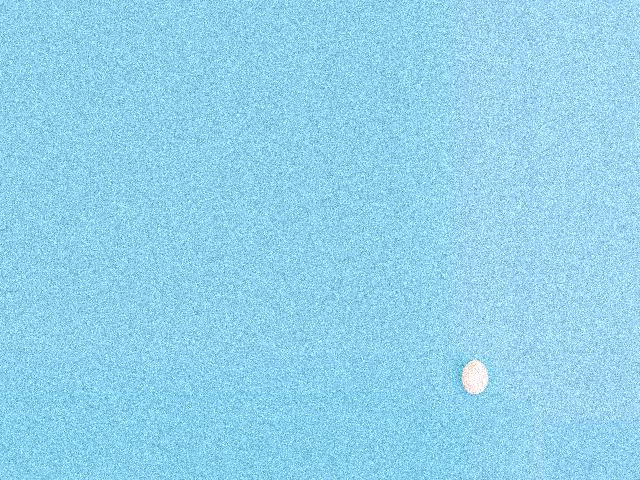egg: (461, 359, 488, 394)
